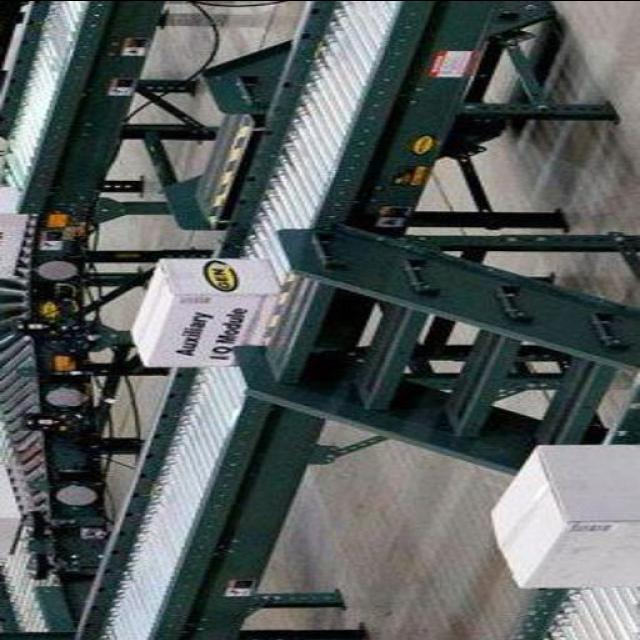conveyor: (74, 0, 403, 640)
